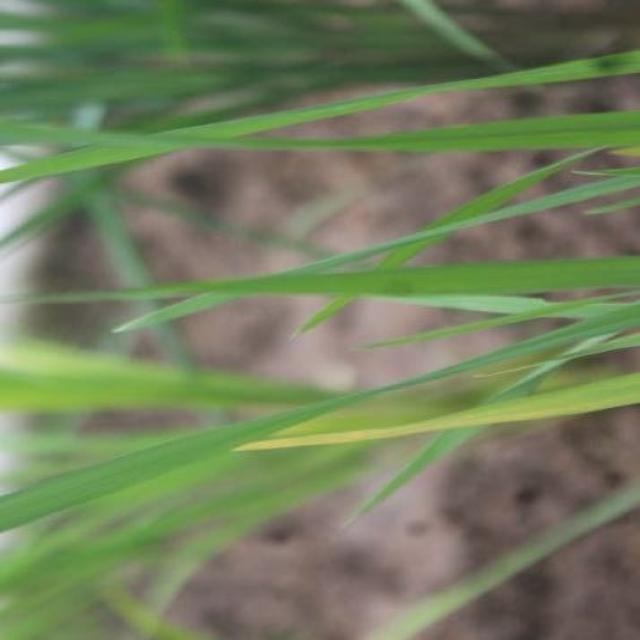Tungro: (258, 373, 640, 467)
